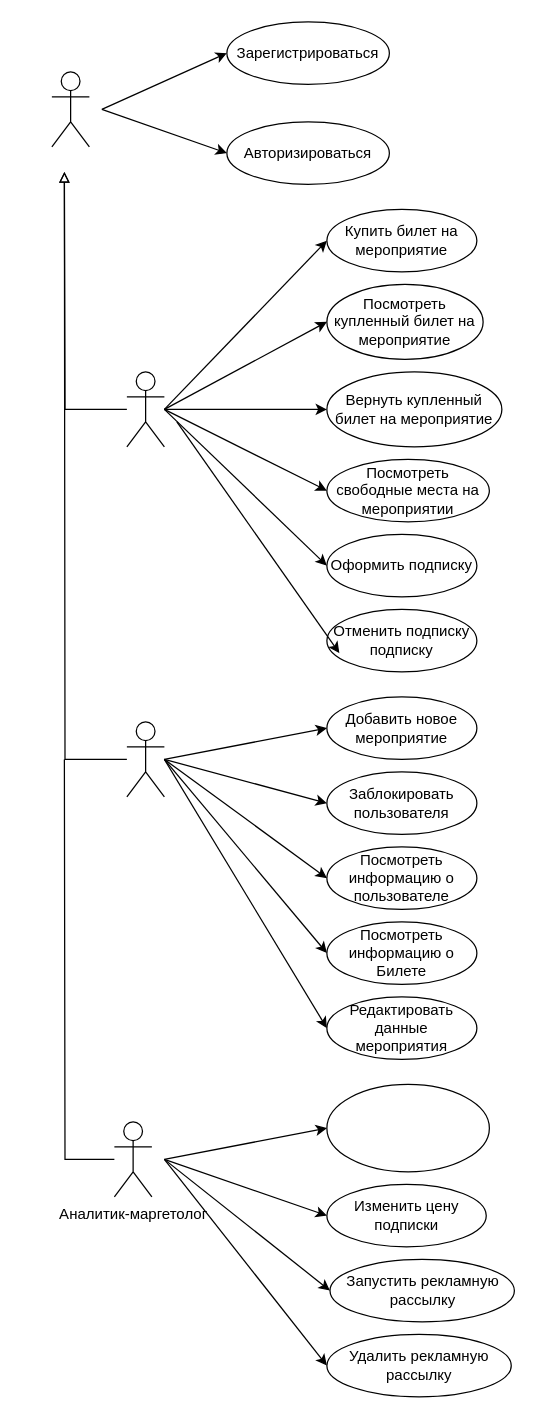
The diagram is 536 pixels wide and 1419 high, and some of its shapes have lost their labels. The shapes that lost their labels are listed below. From the top down, each one's centre as x and y in pixels, then its label:
At pixel 70 109: "Пользователь".
At pixel 145 409: "Покупатель".
At pixel 145 759: "Администратор".
At pixel 407 1127: "Посмотреть статистику о продажах билетов".
